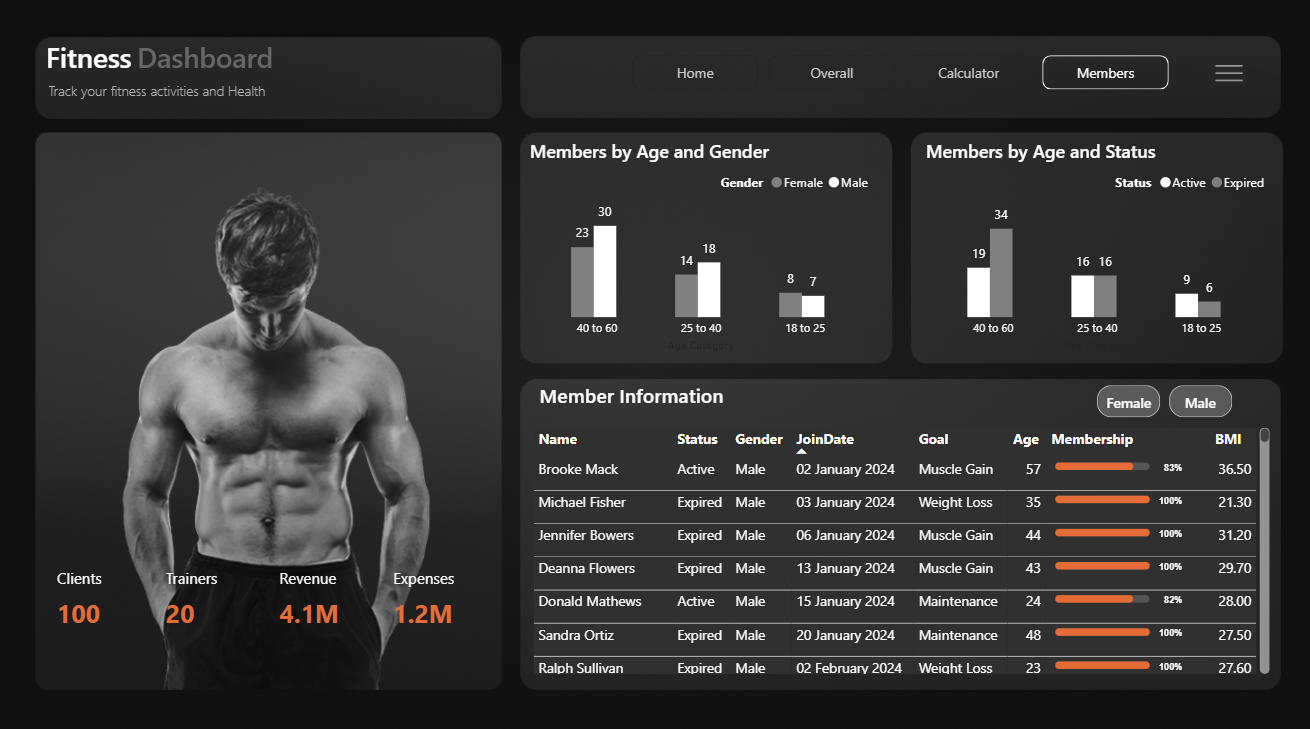

Layout of this report page (visuals, bound fields, positions):
{"tool":"powerbi","page":{"name":"Members","canvas":[1280,720],"ordinal":3},"visuals":[{"type":"shape","box":[51.9,42.2,115.8,33.8],"z":0},{"type":"shape","box":[139.9,42.2,190.6,33.8],"z":1000},{"type":"shape","box":[54.3,77.2,247.3,31.4],"z":2000},{"type":"image","box":[1159.4,55.5,70,43.4],"z":3000},{"type":"pageNavigator","box":[617.7,59.1,518.8,33.8],"z":6000},{"type":"cardVisual","fields":{"Data":["_Measures.Users_Count"]},"box":[45.8,544.1,121.9,79.6],"z":7000},{"type":"cardVisual","fields":{"Data":["Count(Users.Trainer Name)"]},"box":[150.8,544.1,109.8,79.6],"z":8000},{"type":"cardVisual","fields":{"Data":["_Measures.Revenue"]},"box":[260.6,544.1,109.8,79.6],"z":9000},{"type":"cardVisual","fields":{"Data":["_Measures.Expenses"]},"box":[370.4,538.1,117,91.7],"z":10000},{"type":"tableEx","fields":{"Values":["Users.UserName","Users.Status","Users.Gender","Users.JoinDate","Users.Goal","Sum(Users.Age)","_Measures.SVG_BarChart1","Sum(Users.BMI)"]},"box":[516.4,413.8,721.5,247.3],"z":11000},{"type":"shape","box":[528.4,369.2,219.6,36.2],"z":12000},{"type":"advancedSlicerVisual","fields":{"Values":["Users.Gender"]},"box":[1061.7,372.8,141.2,41],"z":13000},{"type":"clusteredColumnChart","title":"Members by Age and Gender","fields":{"Category":["Users.Age Category"],"Y":["_Measures.Users_Count"],"Series":["Users.Gender"]},"box":[513.9,139.9,341.4,209.9],"z":14000},{"type":"clusteredColumnChart","title":"Members by Age and Status","fields":{"Category":["Users.Age Category"],"Y":["_Measures.Users_Count"],"Series":["Users.Status"]},"box":[896.4,139.9,341.4,209.9],"z":15000}]}

Visuals, with their boxes in screenshot pixels (x1, y1, x2, y2), scaled from the page's 1280x720 canvas onto the 1310x729 screenshot:
shape: (x1=53, y1=43, x2=172, y2=77)
shape: (x1=143, y1=43, x2=338, y2=77)
shape: (x1=56, y1=78, x2=309, y2=110)
image: (x1=1187, y1=56, x2=1258, y2=100)
pageNavigator: (x1=632, y1=60, x2=1163, y2=94)
cardVisual - _Measures.Users_Count: (x1=47, y1=551, x2=172, y2=631)
cardVisual - Count(Users.Trainer Name): (x1=154, y1=551, x2=267, y2=631)
cardVisual - _Measures.Revenue: (x1=267, y1=551, x2=379, y2=631)
cardVisual - _Measures.Expenses: (x1=379, y1=545, x2=499, y2=638)
tableEx - Users.UserName x Users.Status: (x1=529, y1=419, x2=1267, y2=669)
shape: (x1=541, y1=374, x2=766, y2=410)
advancedSlicerVisual - Users.Gender: (x1=1087, y1=377, x2=1231, y2=419)
"Members by Age and Gender" clusteredColumnChart: (x1=526, y1=142, x2=875, y2=354)
"Members by Age and Status" clusteredColumnChart: (x1=917, y1=142, x2=1267, y2=354)
